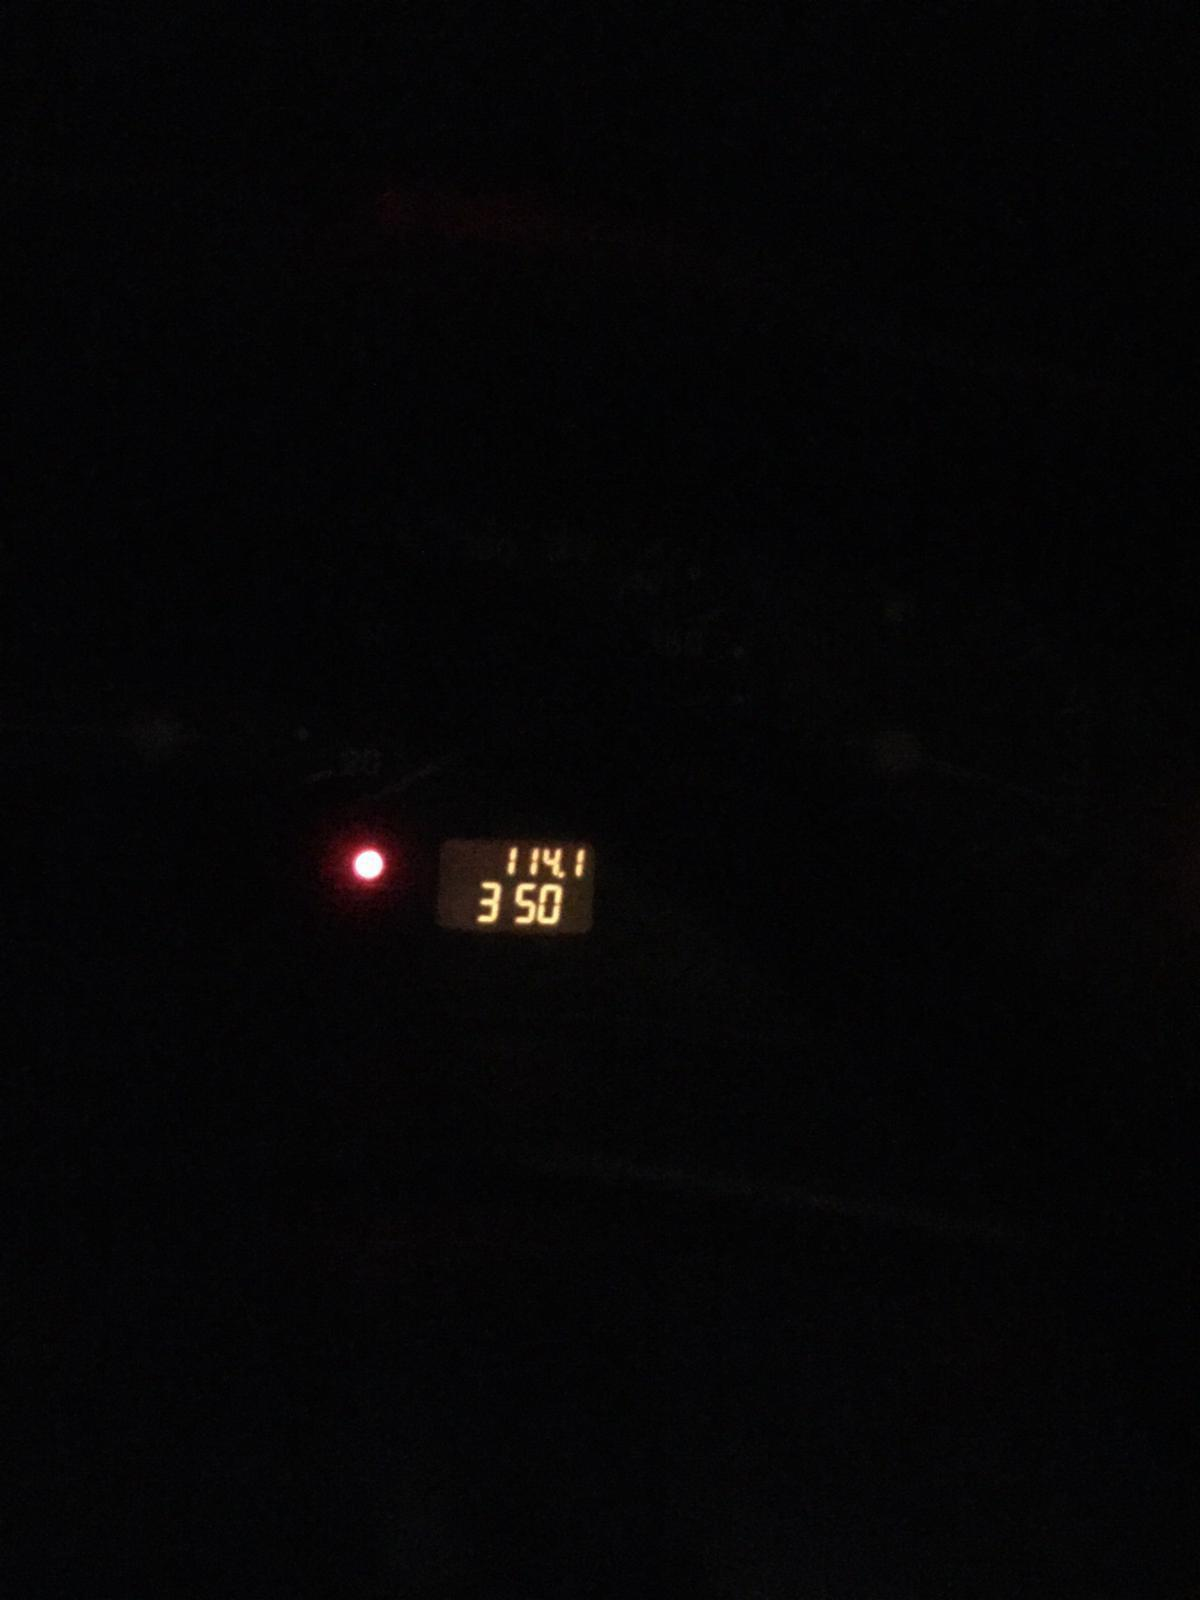,: (558, 871, 565, 878)
0: (537, 883, 562, 923)
1: (505, 845, 519, 876), (574, 848, 586, 878), (528, 847, 539, 876)
3: (475, 879, 502, 923)
4: (542, 847, 562, 876)
5: (512, 881, 536, 923)
odometer: (434, 834, 597, 937)
